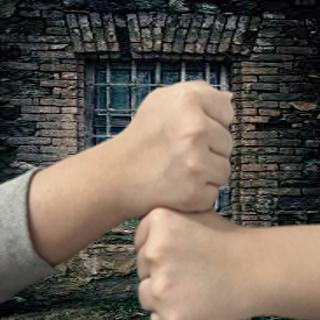CAREFUL: (54, 80, 318, 315)
